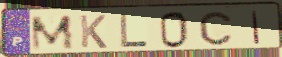0: (158, 10, 190, 49)
C: (197, 10, 234, 46)
I: (250, 10, 262, 45)
K: (79, 14, 109, 50)
L: (118, 13, 150, 48)
M: (29, 14, 77, 52)
